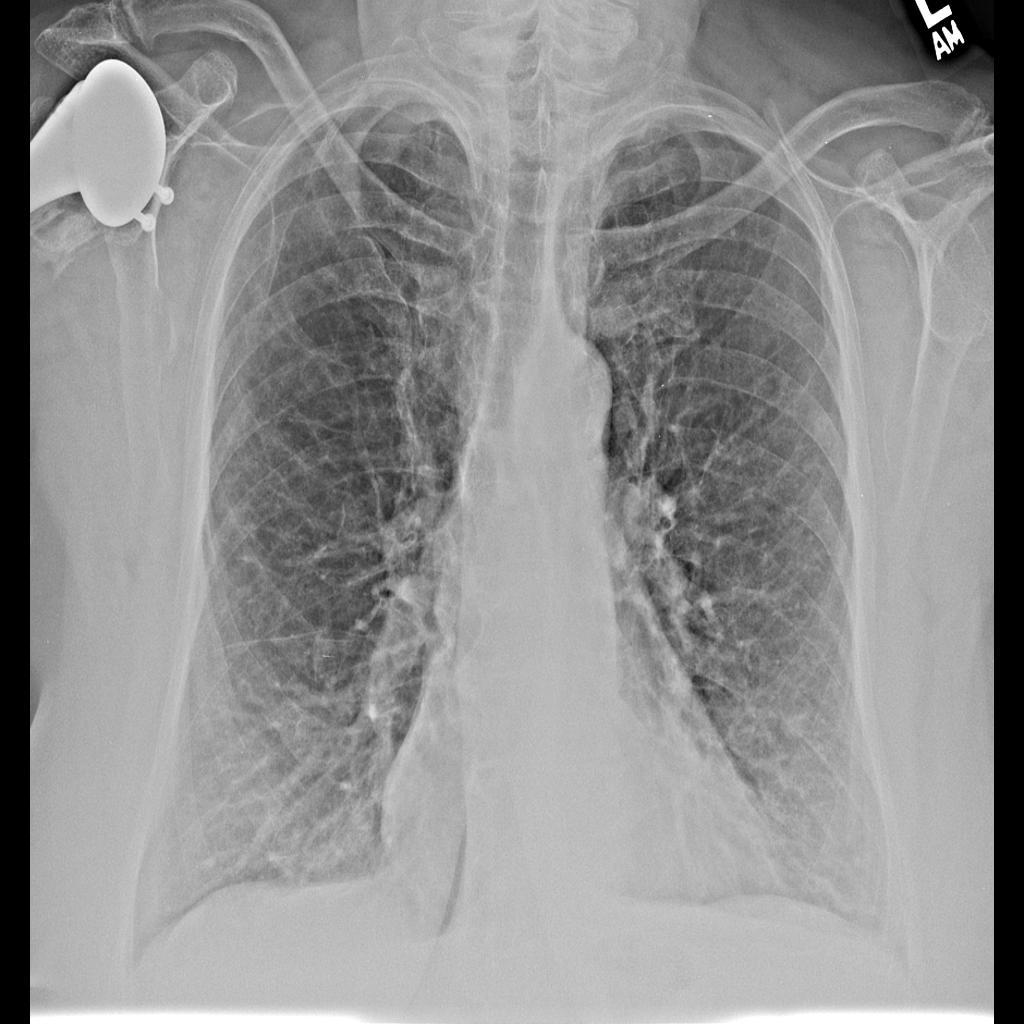Nodule: (784, 717, 814, 743)
